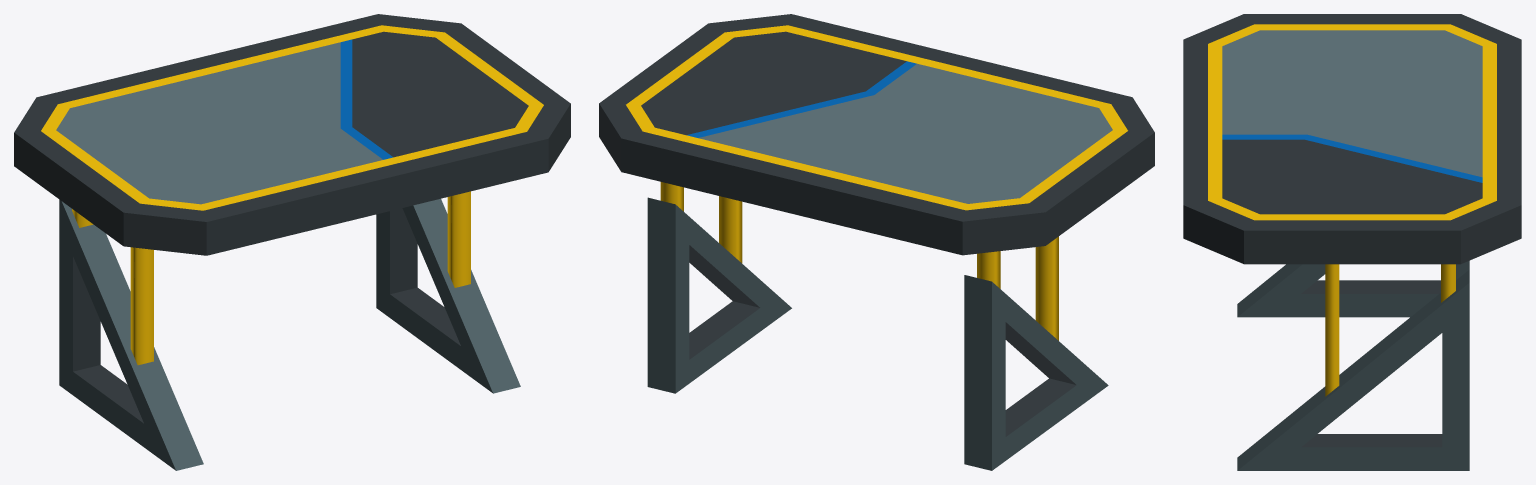
The model's file is Desk_002.fbx.
3 views of the same model, side by side, from view 1: azimuth 30°, elevation 25°; view 2: azimuth 150°, elevation 25°; view 3: azimuth 270°, elevation 25° (orthographic).
Parts seen in each view (by area): view 1: Desk_002; view 2: Desk_002; view 3: Desk_002.
Part boxes in pixels (box(x1,y1,x2,y2)): Desk_002: box(14, 14, 570, 470); Desk_002: box(599, 14, 1154, 470); Desk_002: box(1183, 14, 1521, 470).
Size of the model in its own units: 147 by 96.98 by 84.18.
